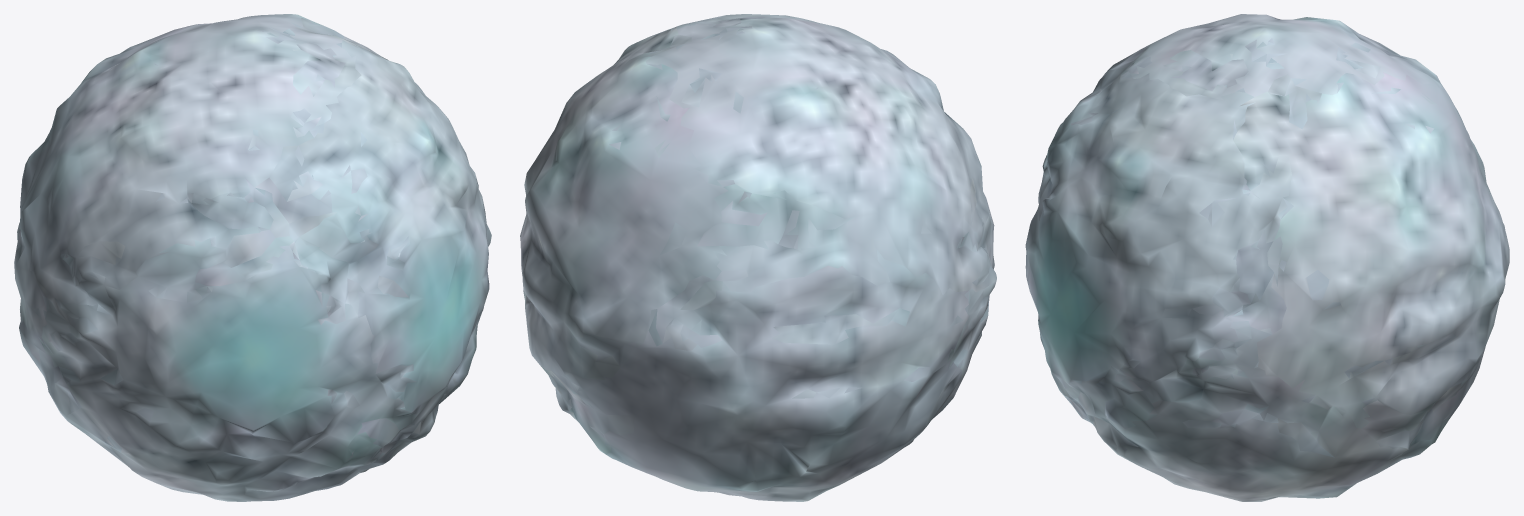
File: snowball-diet128.glb
The picture shows the model from 3 angles, left to right: view 1: azimuth 30°, elevation 25°; view 2: azimuth 150°, elevation 25°; view 3: azimuth 270°, elevation 25°; orthographic projection.
Visible parts, largest first — view 1: Mesh_0; view 2: Mesh_0; view 3: Mesh_0.
Part boxes in pixels (x1=…): Mesh_0: x1=14, y1=14, x2=491, y2=501; Mesh_0: x1=520, y1=14, x2=996, y2=501; Mesh_0: x1=1025, y1=14, x2=1509, y2=501.
Bounding box in the file's own units: 1.84 × 1.9 × 1.85.
Materials: 1 (1 with a texture image).
